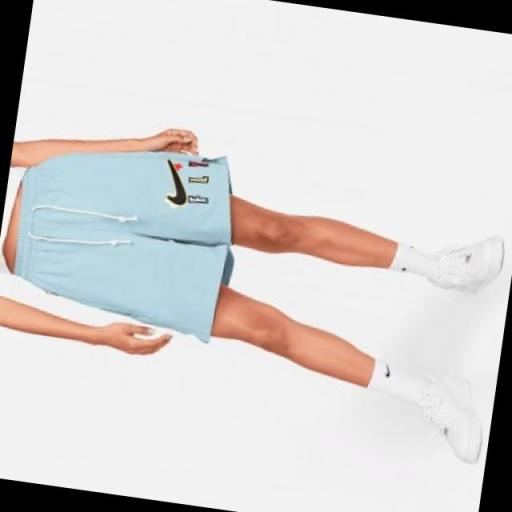Nike: (156, 156, 193, 214)
